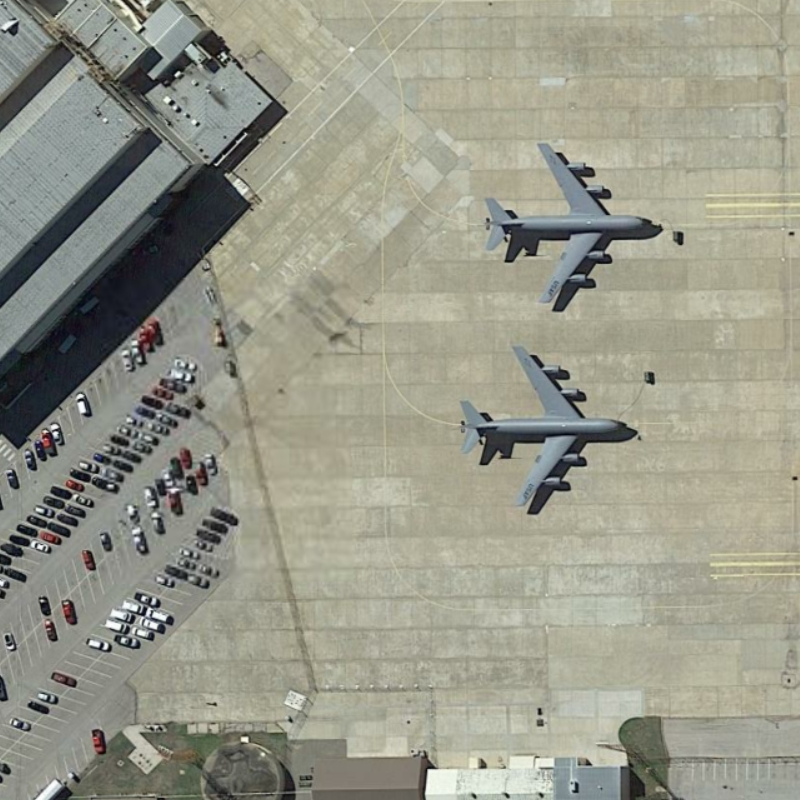A14: (473, 137, 658, 314), (452, 336, 628, 510)
